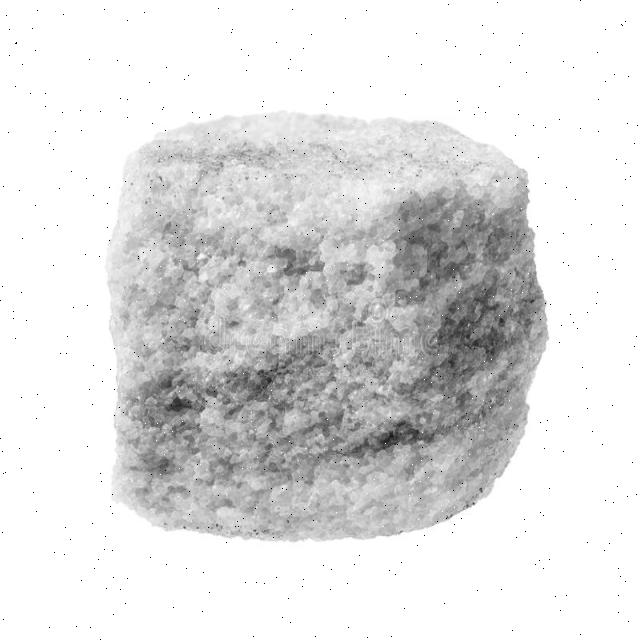Metamorphic: (98, 105, 542, 557)
